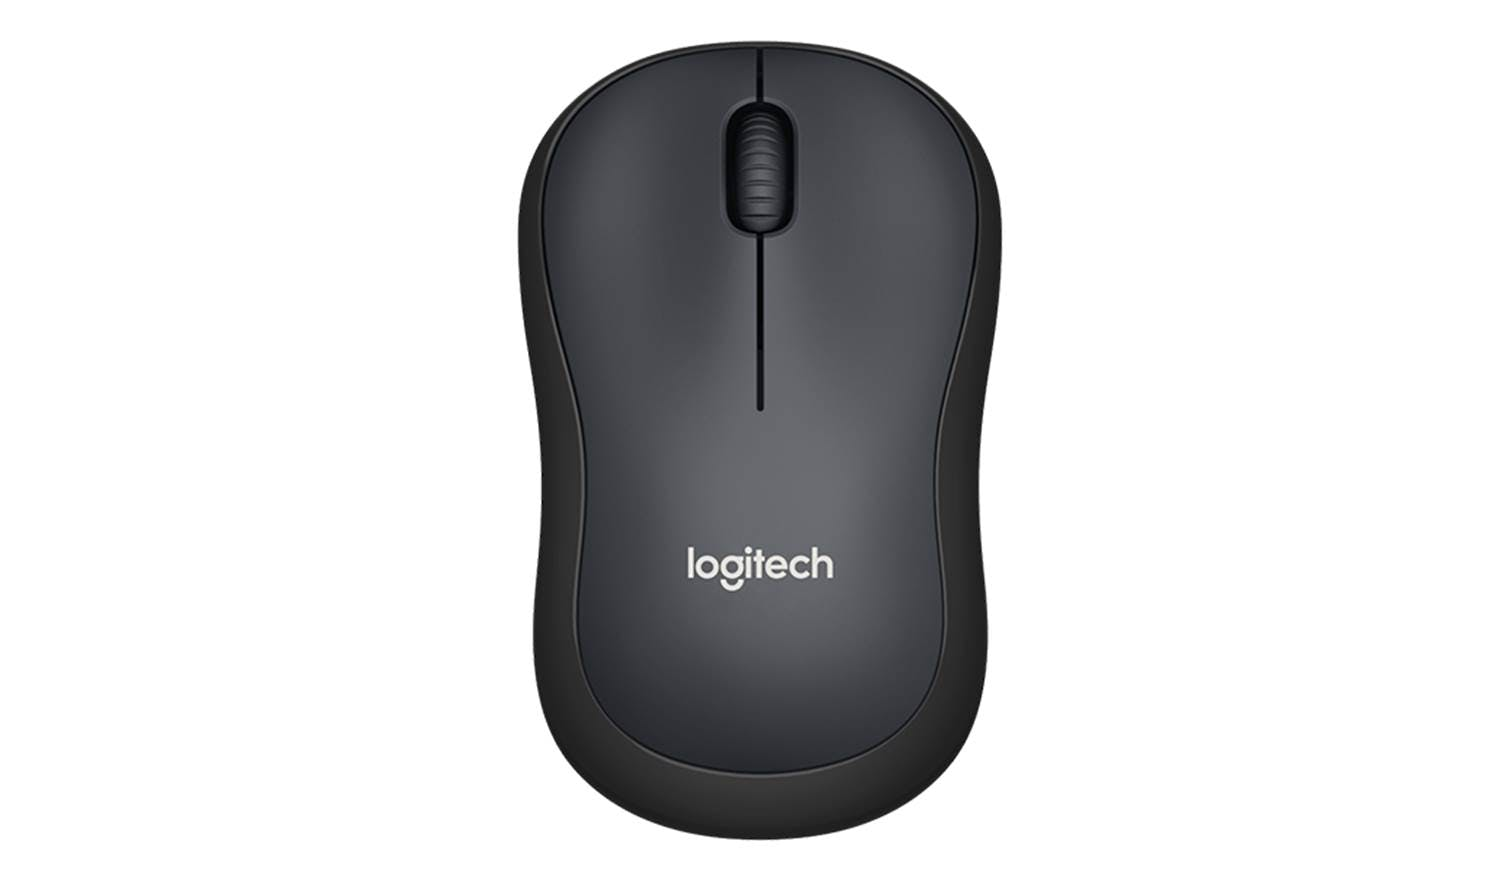Mouse: (416, 21, 1086, 853)
